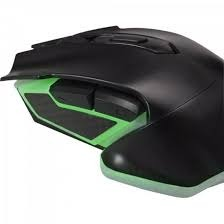mouse: (5, 20, 224, 199)
